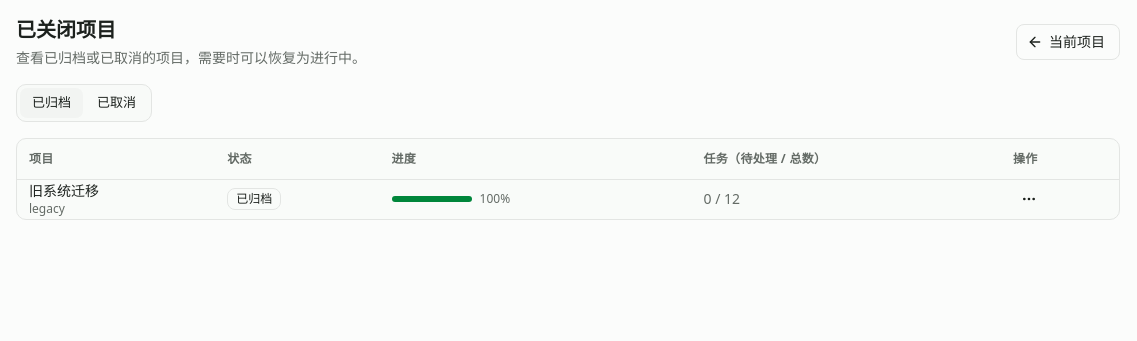
Test: ProjectWorkbench ProjectsListPage › renders archived projects in the separate closed-project view
Check: the heading "已关闭项目" is shown, box [16,16,116,43]
Check: the text "旧系统迁移" is shown, box [29,181,99,200]
Click the tab "已取消": click(116, 103) [84,87,149,119]
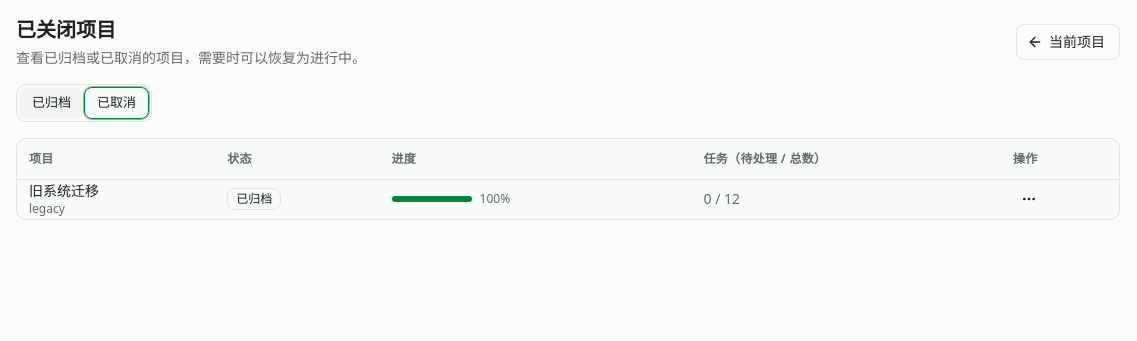
Click the button named "项目操作": click(1029, 199) [1013,183,1045,215]
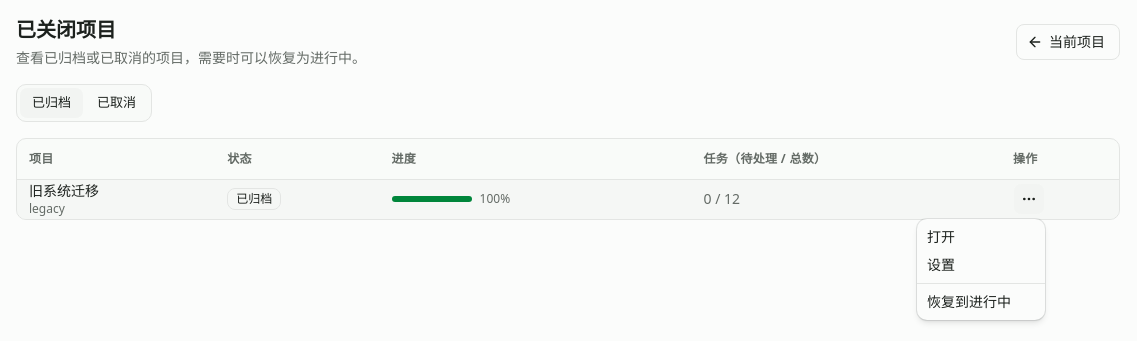
Check: the menu item "恢复到进行中" is shown, box [927,292,1011,311]
